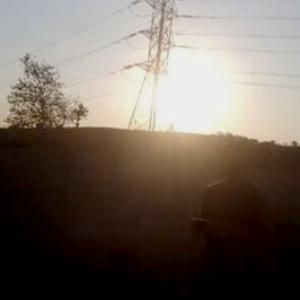follow: (188, 133, 268, 299)
